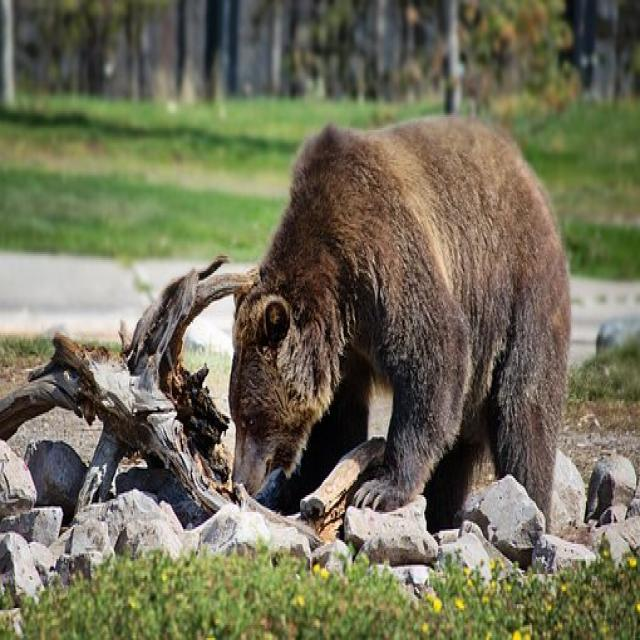Bear: (228, 117, 572, 535)
